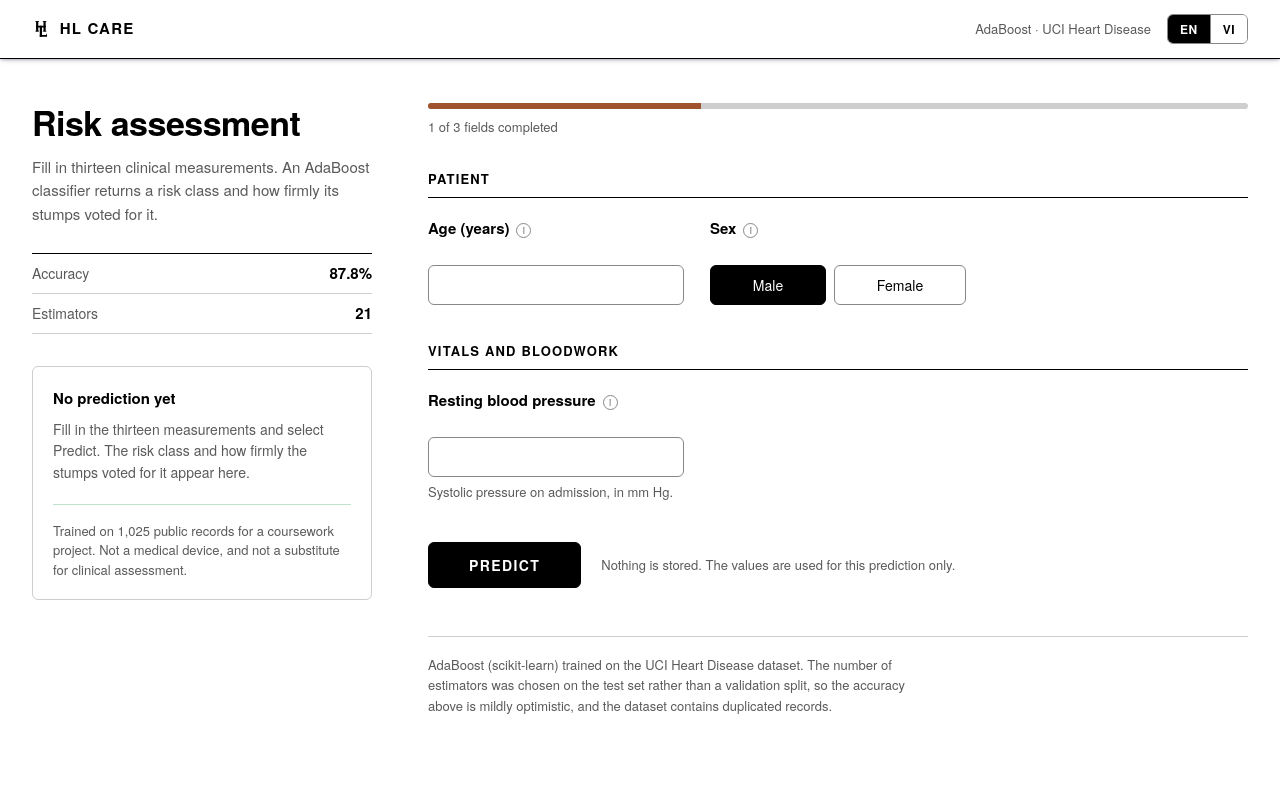
Test: the form › clears a flagged field's error as soon as it is edited
Click the number field labelled "Age (years) i".
click(556, 285)  # box [428,265,684,305]
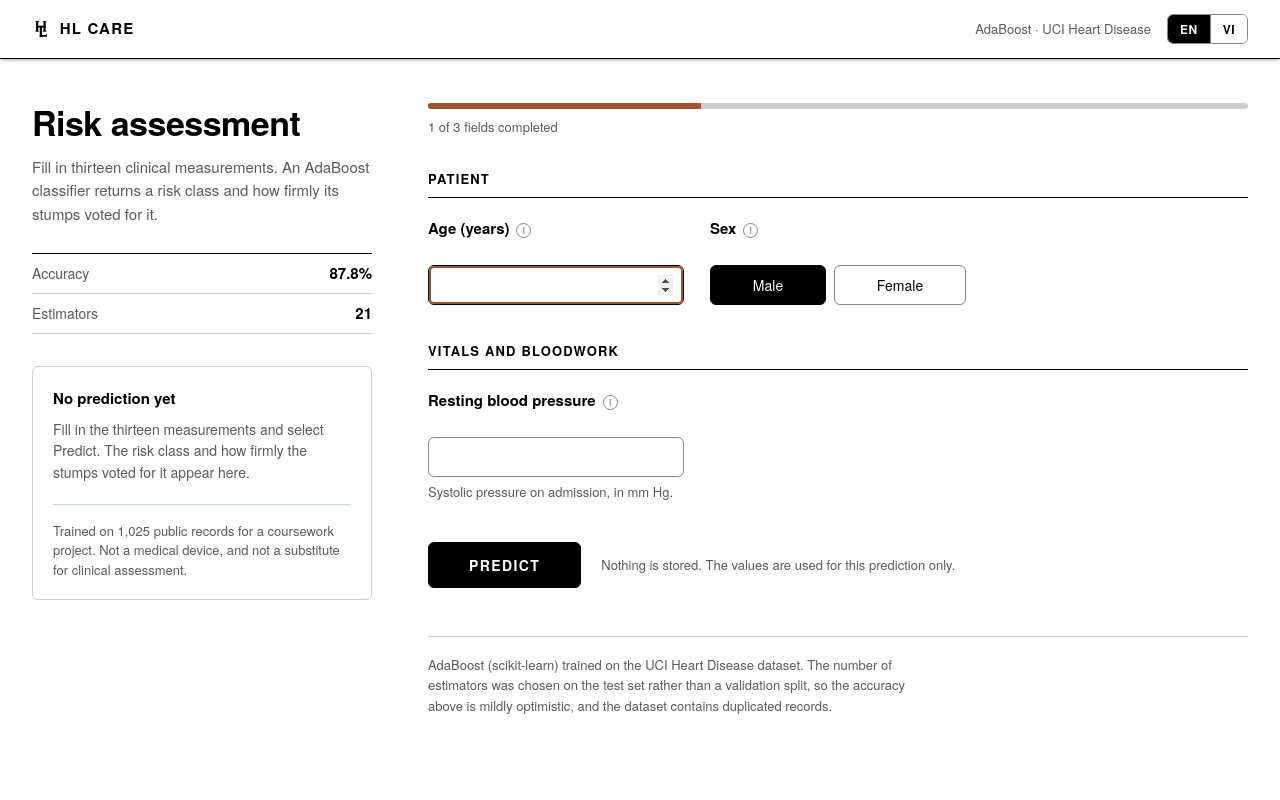
Press Tab
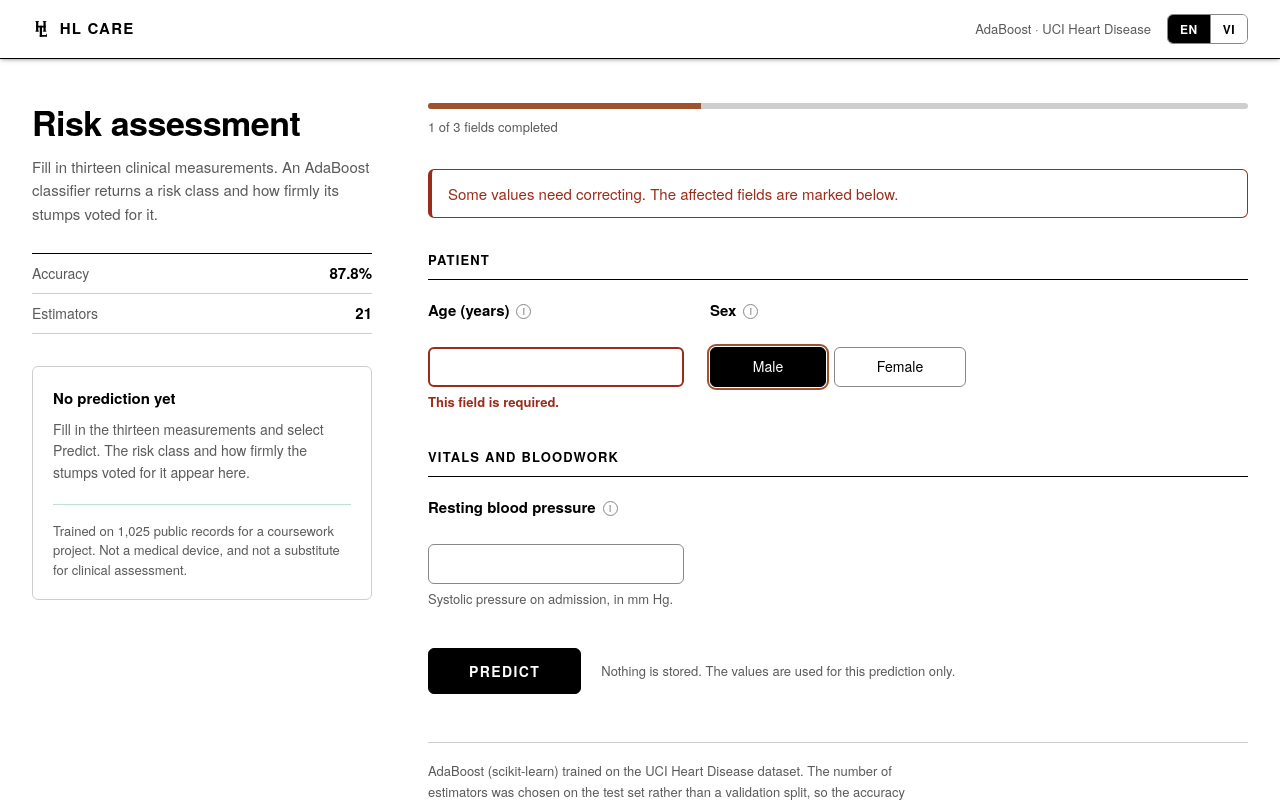
Check: the text "This field is required." is shown, box [428,392,559,410]
Type "58" into the number field labelled "Age (years) i".
click(556, 366); type("58")  # box [428,346,684,386]
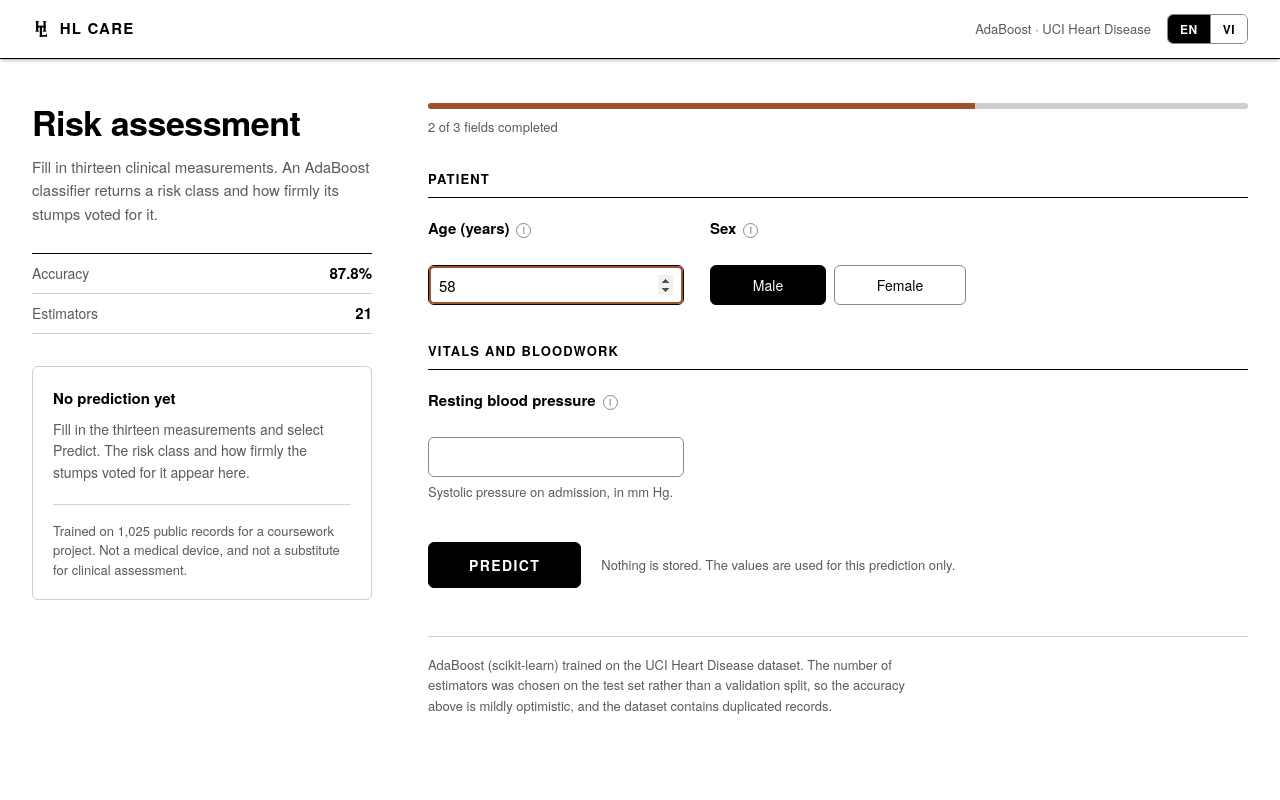
Check: the text "This field is required." is gone
